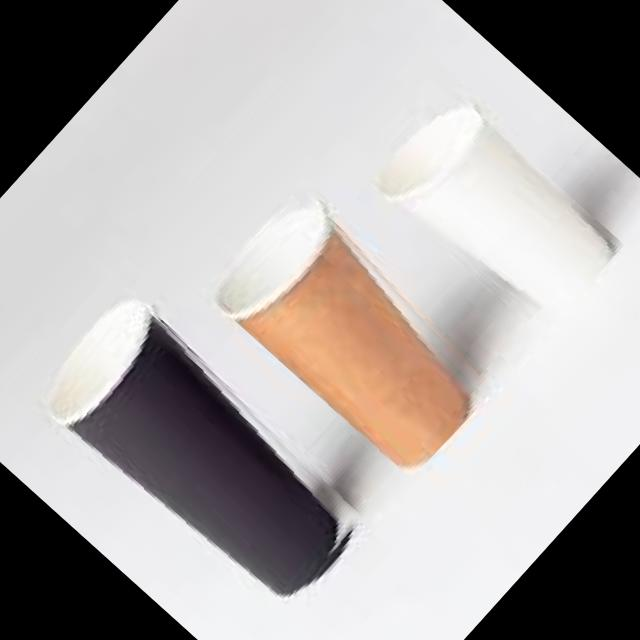PaperCardboard: (46, 296, 339, 595), (218, 208, 468, 465), (382, 100, 612, 303)
